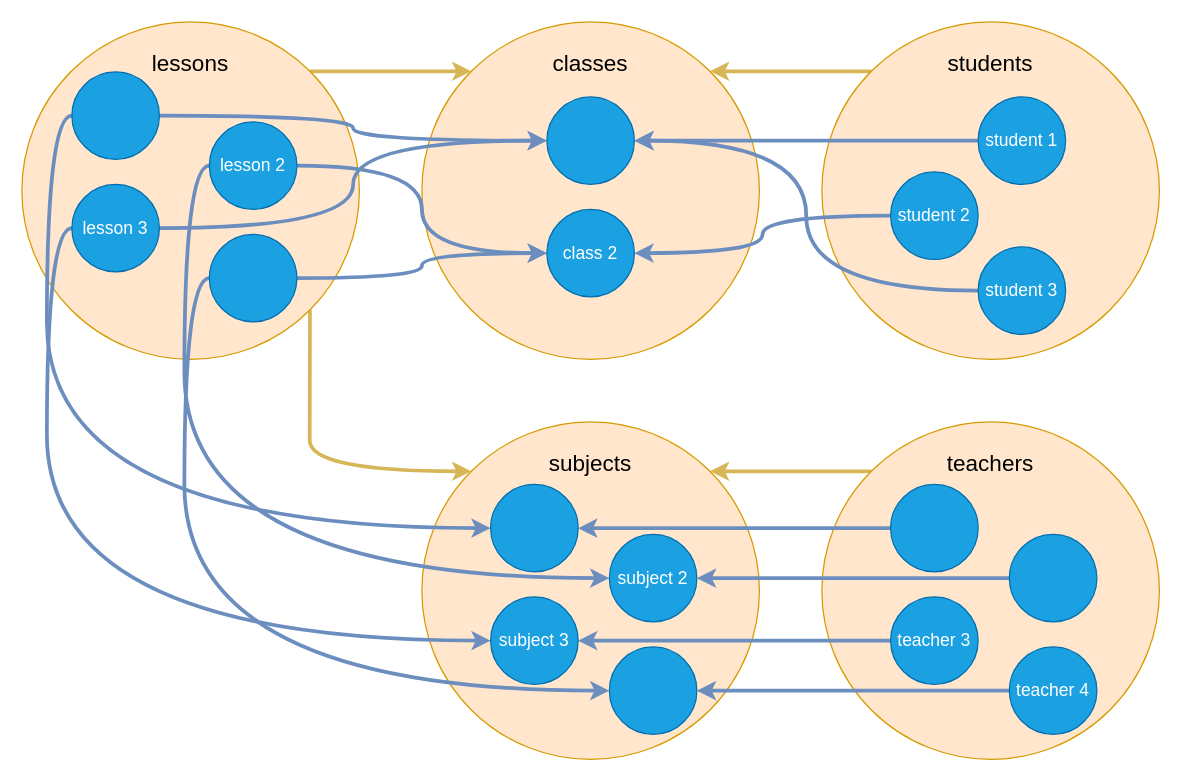
The diagram is 1181 pixels wide and 781 high, and some of its shapes have lost their labels. Here are the shapes that lost their labels. From the top down, the box of each, then its label:
(71, 71, 159, 159): lesson 1
(546, 96, 634, 184): class 1
(208, 233, 297, 322): lesson 4
(489, 483, 578, 572): subject 1
(889, 483, 978, 572): teacher 1
(1008, 533, 1097, 622): teacher 2
(608, 646, 697, 734): subject 4
